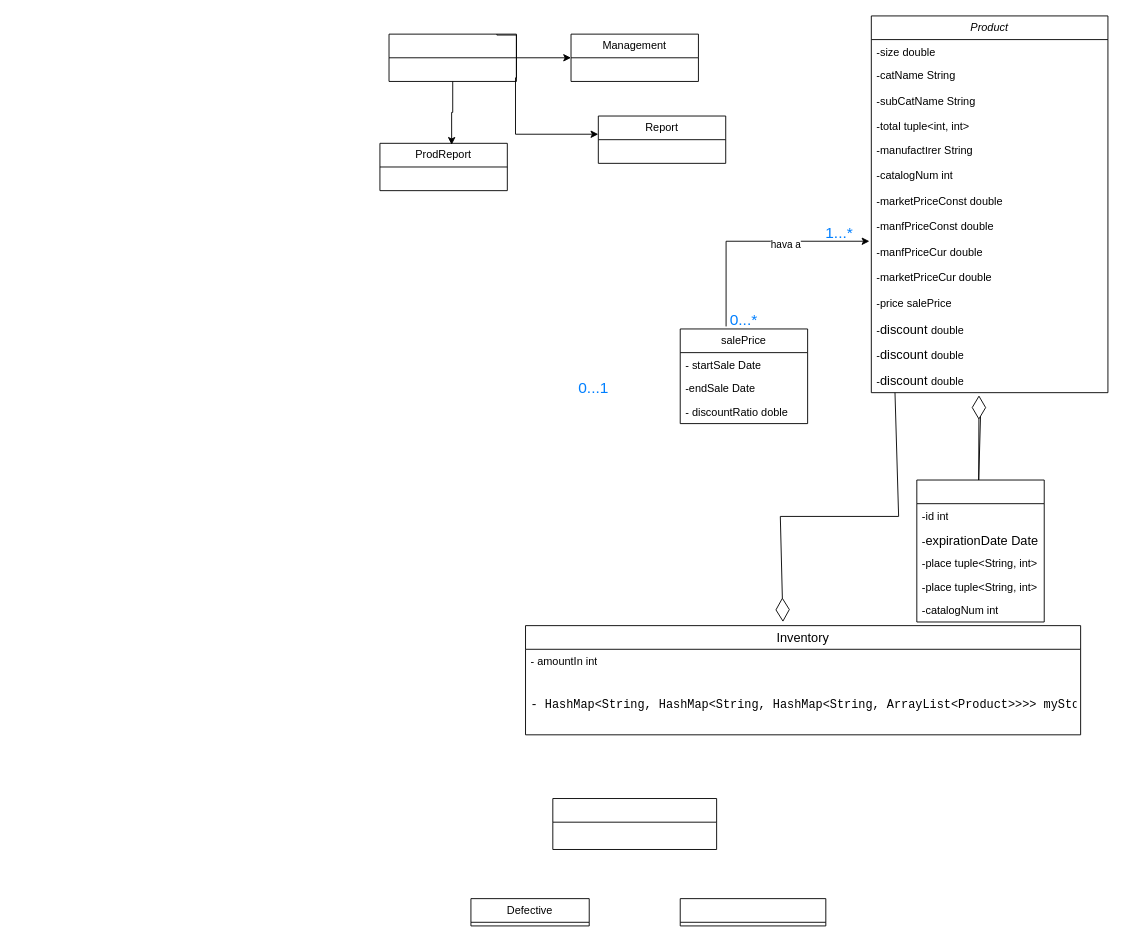
This 1124x942 diagram has some shape labels left out. Here are the shapes that lost their labels. From the top down, the box of each, then its label:
(388, 33, 516, 81): Main
(916, 479, 1044, 622): Item
(552, 798, 717, 849): AReport
(679, 898, 826, 926): Expirated
